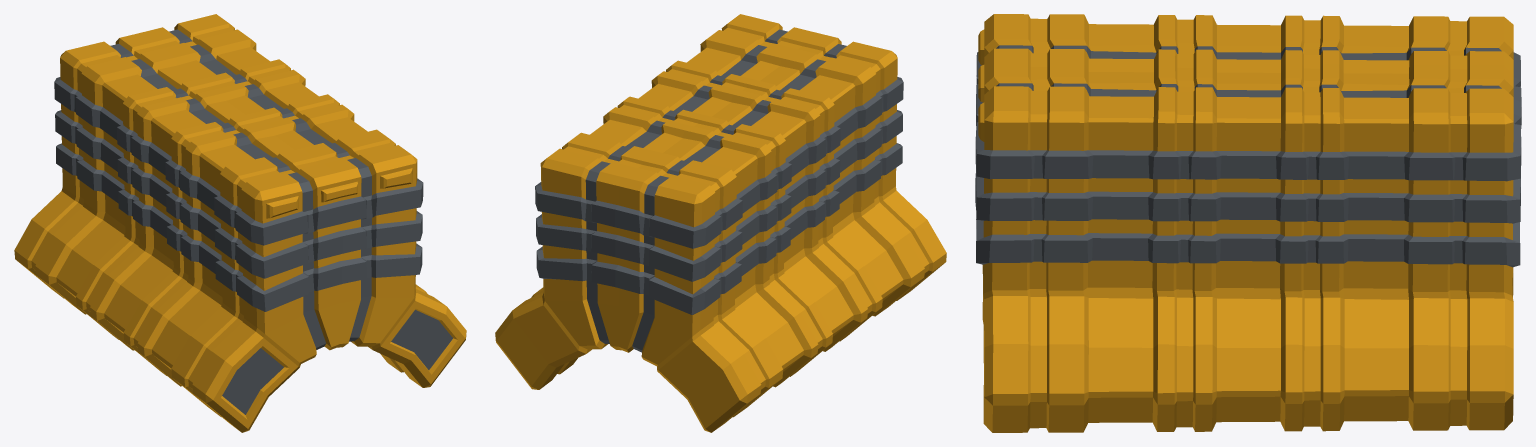
The model's file is Fighter_03_Engine_Yellow.fbx.
3 renders of one model, left to right at view 1: azimuth 30°, elevation 25°; view 2: azimuth 150°, elevation 25°; view 3: azimuth 270°, elevation 25°, orthographic. The views are drawn at different scales.
Parts seen in each view (by area): view 1: Fighter_03_Engine_Yellow; view 2: Fighter_03_Engine_Yellow; view 3: Fighter_03_Engine_Yellow.
Boxes of the visible parts, box(x1,y1,x2,y2) form: Fighter_03_Engine_Yellow: box(14, 14, 466, 432); Fighter_03_Engine_Yellow: box(495, 14, 946, 432); Fighter_03_Engine_Yellow: box(975, 14, 1521, 432).
Size of the model in its own units: 344 by 298 by 475.
1 material, 1 textured.
